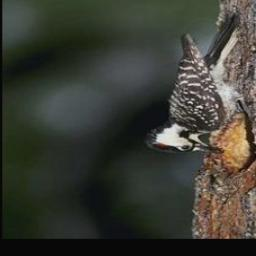Woodpecker: (138, 12, 256, 157)
